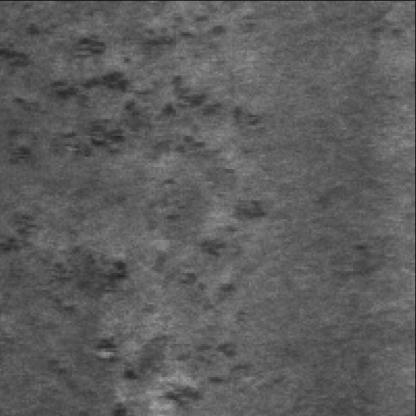rolled-in_scale: (0, 0, 260, 158), (46, 233, 247, 410)
